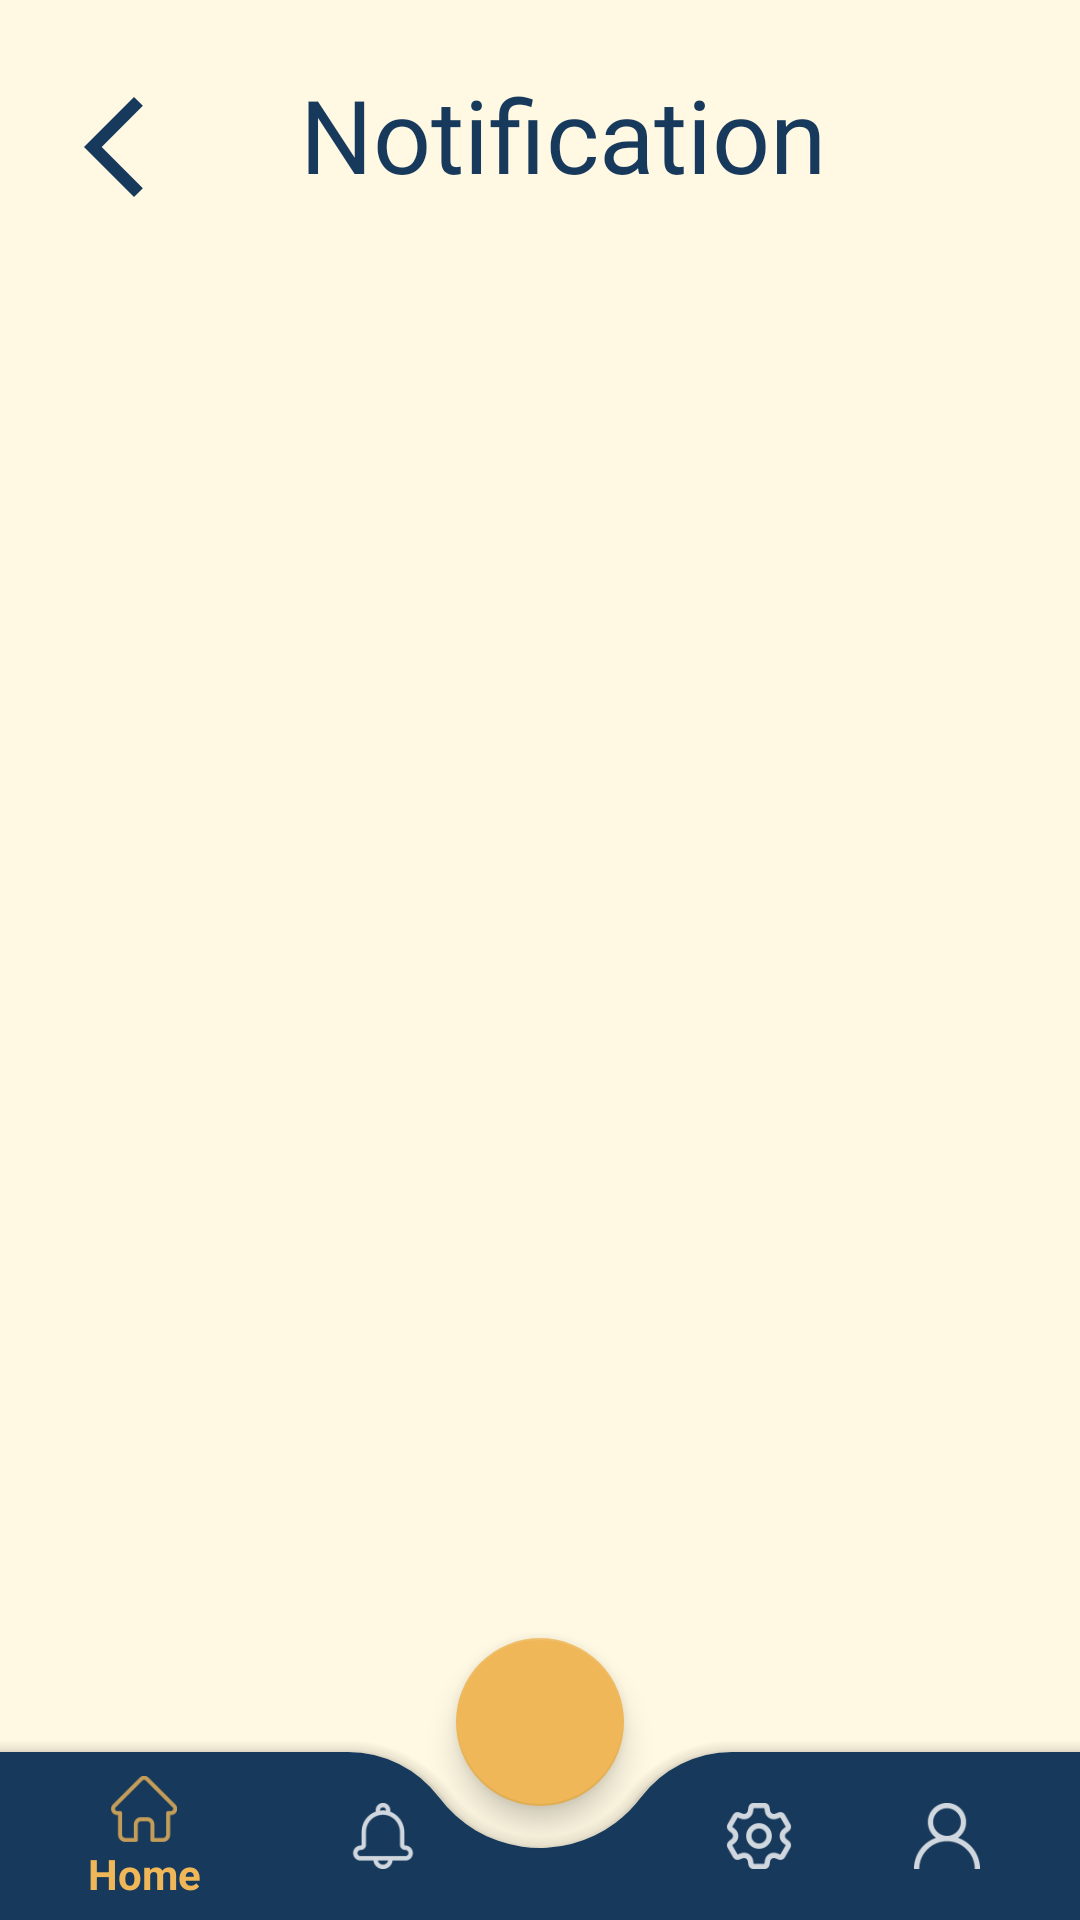

Screen size 1080 × 1920. Icon name, then its box in pixels as (x1, y1, x2, y2):
arrow back: (84, 97, 143, 197)
